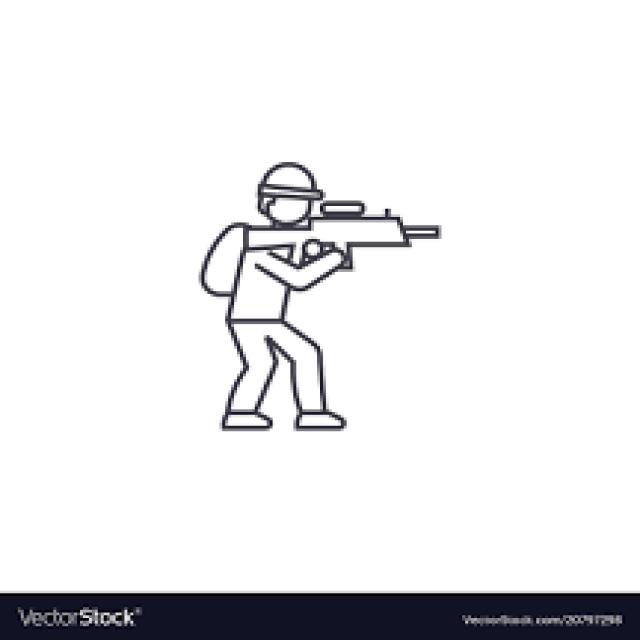soldier: (199, 148, 441, 434)
